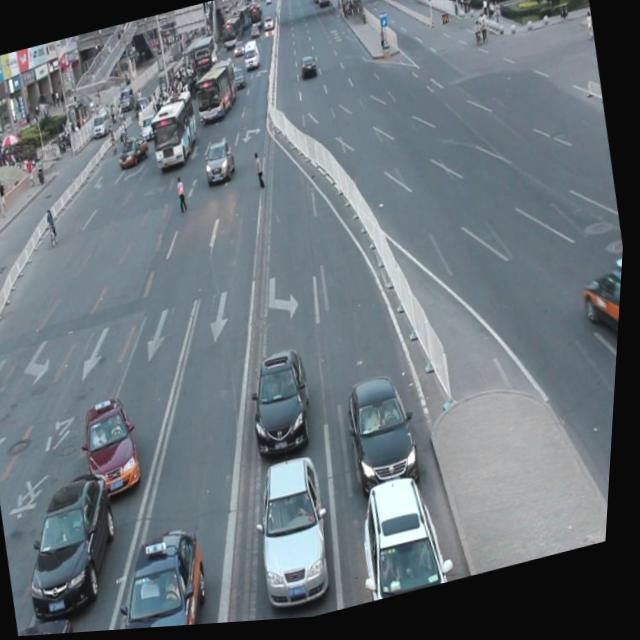car: (16, 466, 139, 625), (247, 449, 351, 619), (355, 469, 462, 608), (107, 519, 228, 633), (343, 371, 434, 505), (243, 346, 325, 465), (78, 392, 155, 504), (578, 270, 626, 370), (201, 138, 242, 189), (24, 612, 94, 637)
